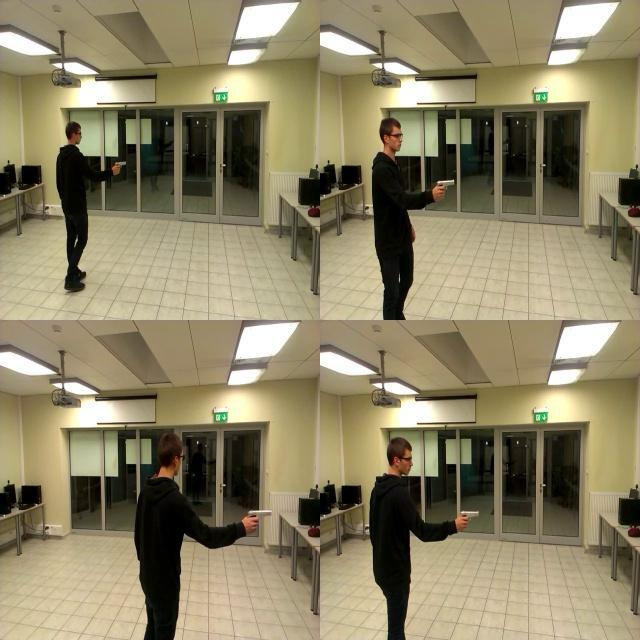gun-knife-thesis - v11 Yolov5 augmented: (240, 503, 272, 529), (432, 177, 456, 204), (455, 505, 479, 527), (108, 154, 126, 171)
